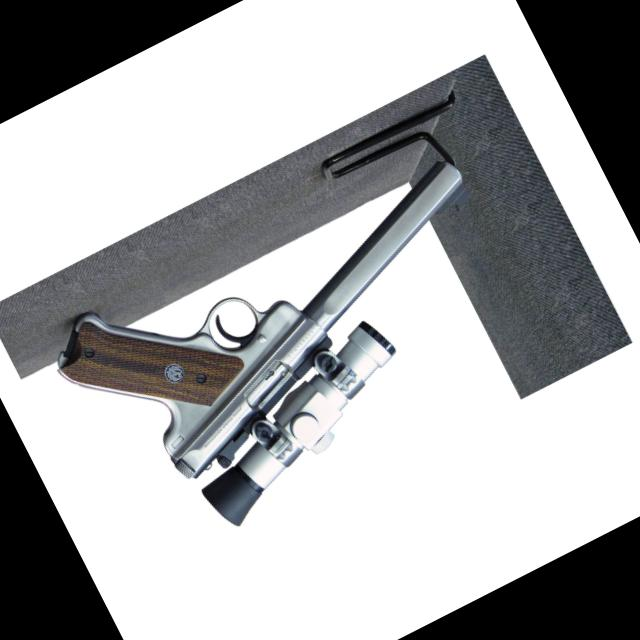Weapon: (33, 105, 586, 573)
